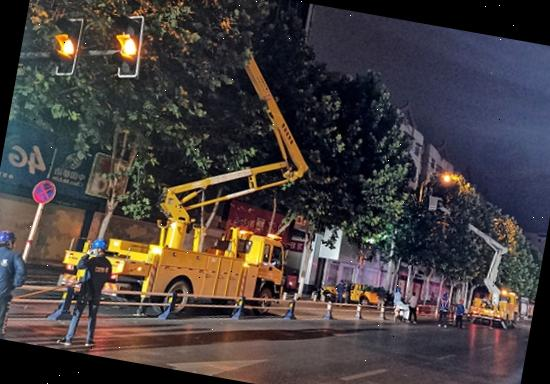helmet: (90, 234, 108, 252), (0, 226, 17, 245)
wear: (78, 255, 112, 298), (0, 246, 22, 301)
